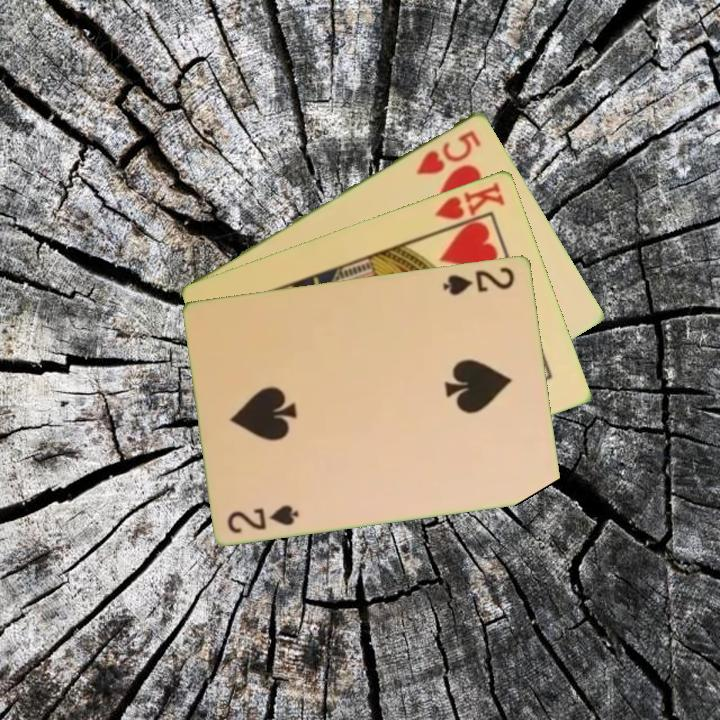2s: (439, 262, 518, 298), (224, 501, 302, 536)
5h: (412, 126, 485, 178)
Kh: (431, 178, 508, 234)
